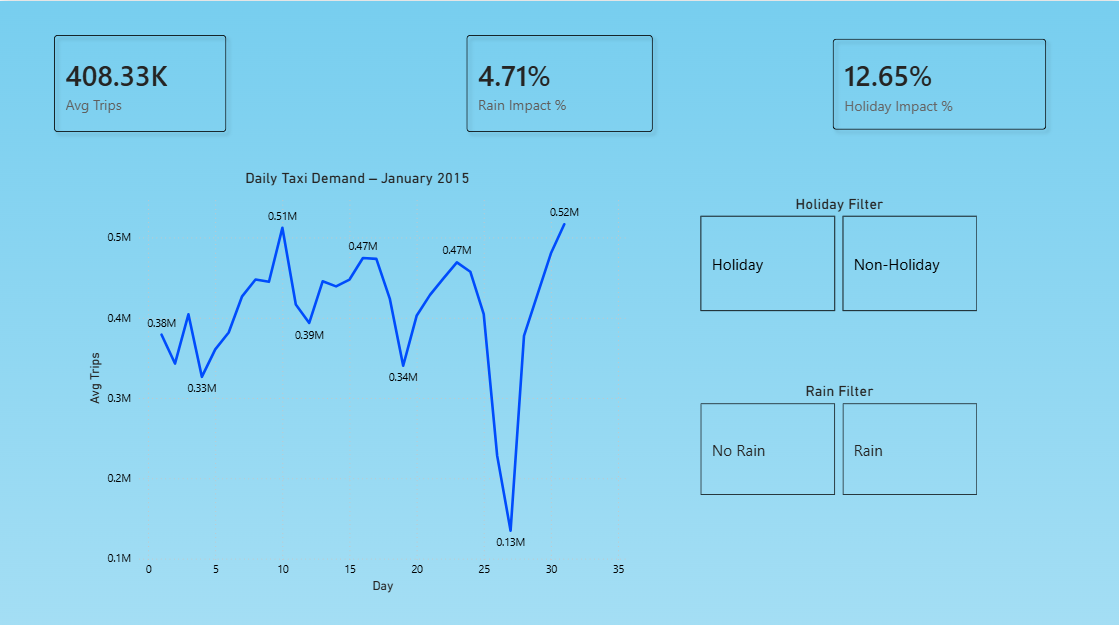

The dashboard page shown, as its layout file describes it:
{"tool":"powerbi","page":{"name":"Executive Overview","canvas":[1280,720],"ordinal":0},"visuals":[{"type":"cardVisual","fields":{"Data":["taxi_daily_dashboard_dataset.Avg Trips"]},"box":[32.3,10,255,169.2],"z":0},{"type":"cardVisual","fields":{"Data":["taxi_daily_dashboard_dataset.Holiday Impact %"]},"box":[923,13.7,302.3,163],"z":2},{"type":"cardVisual","fields":{"Data":["taxi_daily_dashboard_dataset.Rain Impact %"]},"box":[503.8,10,271.2,169.2],"z":4},{"type":"lineChart","title":"Daily Taxi Demand – January 2015","fields":{"Category":["taxi_daily_dashboard_dataset.date.Variation.Date Hierarchy.Day"],"Y":["taxi_daily_dashboard_dataset.Avg Trips"]},"box":[96.1,190.7,625.7,489.9],"z":5},{"type":"listSlicer","title":"Holiday Filter","fields":{"Values":["taxi_daily_dashboard_dataset.Holiday Y/N"]},"box":[796.1,190.3,278.6,230.1],"z":6},{"type":"listSlicer","title":"Rain Filter","fields":{"Values":["taxi_daily_dashboard_dataset.Rain Y/N"]},"box":[796.1,435.4,278.6,245.1],"z":7}]}

Visuals, with their boxes in screenshot pixels (x1, y1, x2, y2), scaled from the page's 1280x720 canvas onto the 1119x625 screenshot:
cardVisual - taxi_daily_dashboard_dataset.Avg Trips: x1=28, y1=9, x2=251, y2=156
cardVisual - taxi_daily_dashboard_dataset.Holiday Impact %: x1=807, y1=12, x2=1071, y2=153
cardVisual - taxi_daily_dashboard_dataset.Rain Impact %: x1=440, y1=9, x2=678, y2=156
"Daily Taxi Demand – January 2015" lineChart: x1=84, y1=166, x2=631, y2=591
"Holiday Filter" listSlicer: x1=696, y1=165, x2=940, y2=365
"Rain Filter" listSlicer: x1=696, y1=378, x2=940, y2=591
